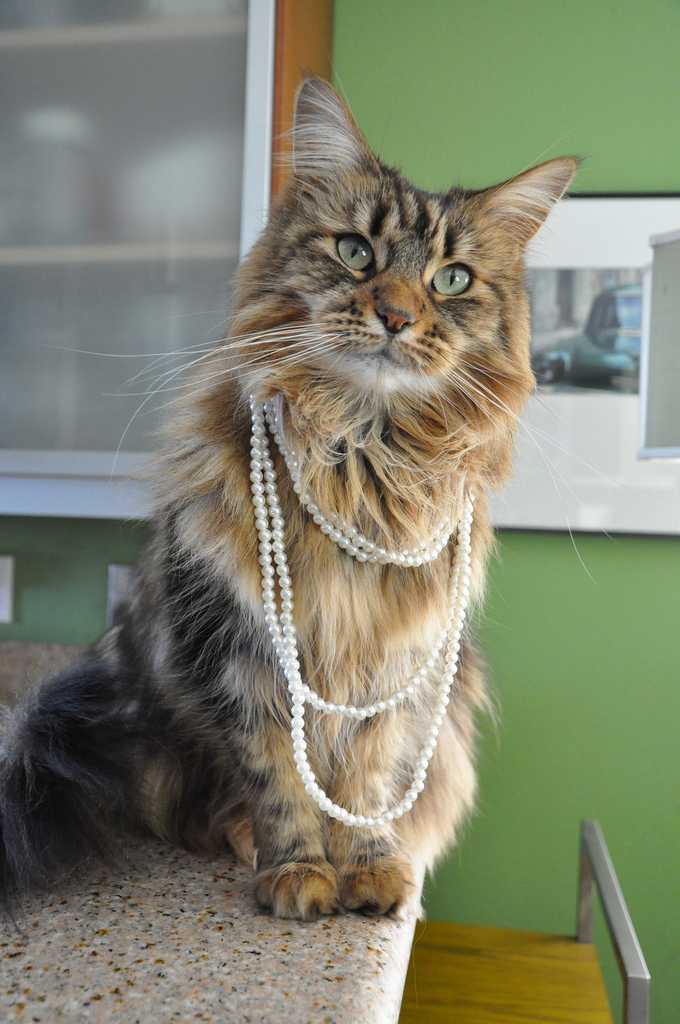Maine coon: (32, 71, 607, 939)
